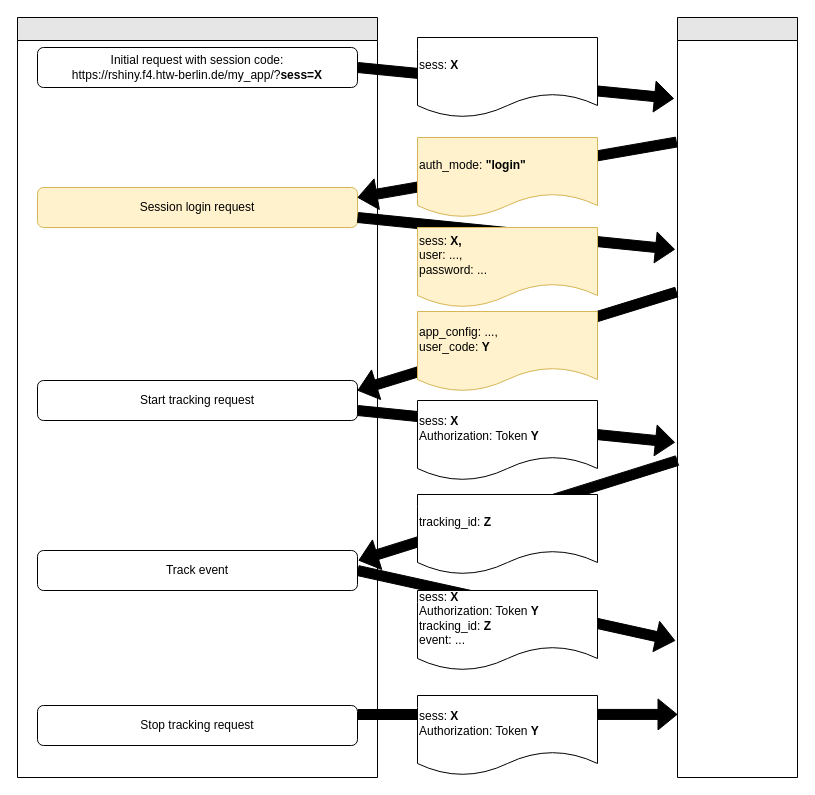
This 815x795 diagram has some shape labels left out. The box of each missing label's shape, as (x1, y1, x2, y2) in pixels:
Client application: (16, 16, 378, 778)
Web API: (676, 16, 798, 778)
